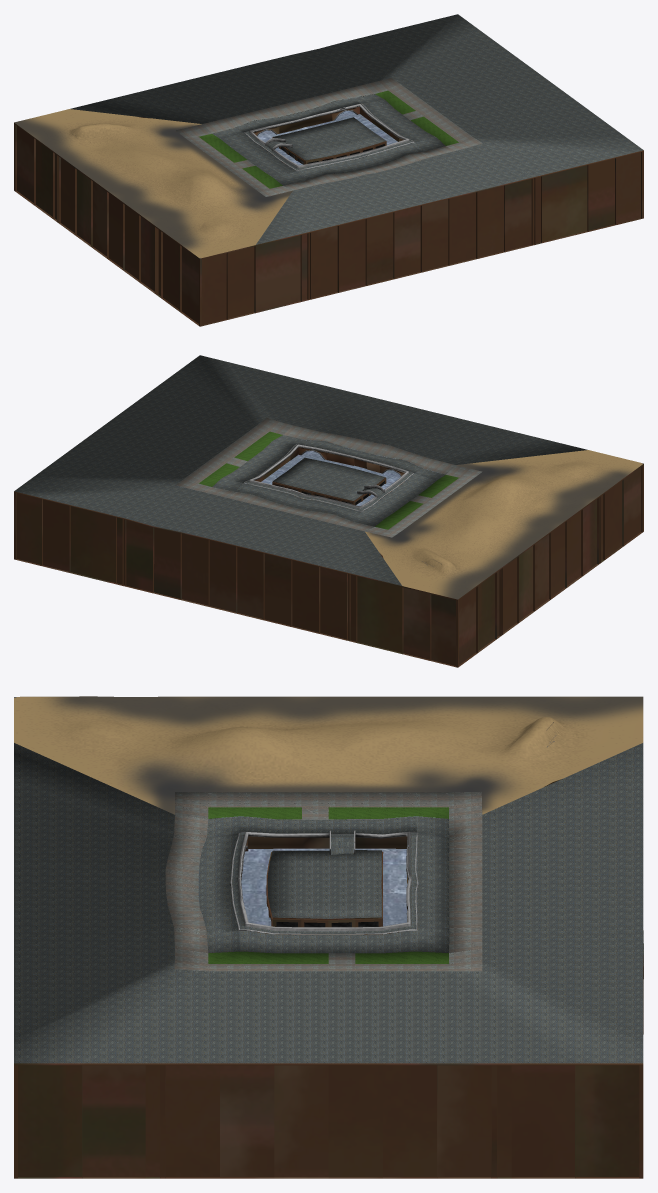
File: testingaoland.fbx
The picture shows the model from 3 angles, top to bottom: view 1: azimuth 30°, elevation 25°; view 2: azimuth 150°, elevation 25°; view 3: azimuth 270°, elevation 25°; orthographic projection. The views are drawn at different scales.
Parts seen in each view (by area): view 1: Plane; view 2: Plane; view 3: Plane.
Boxes of the visible parts, <box> form: Plane: <box>14,14,643,326</box>; Plane: <box>14,355,643,667</box>; Plane: <box>14,696,643,1178</box>.
Size of the model in its own units: 24913 by 4408 by 18092.
7 materials, 7 textured.
